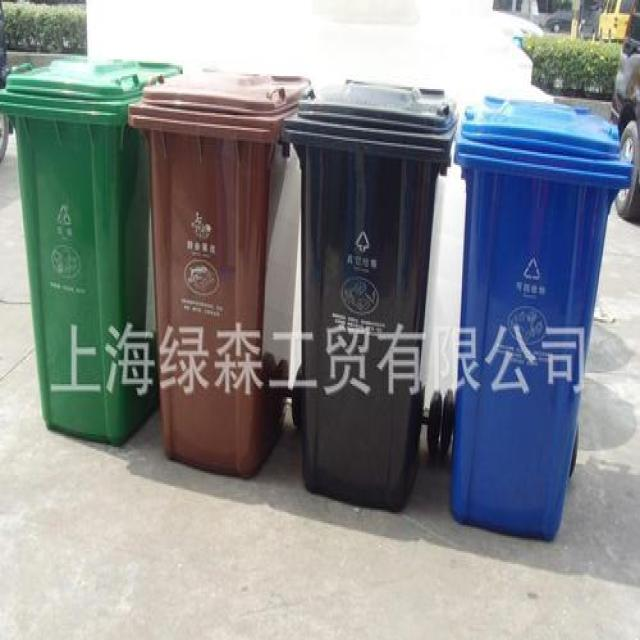garbage_bin: (452, 95, 631, 538), (125, 67, 312, 477), (283, 76, 458, 510), (0, 59, 180, 443)
